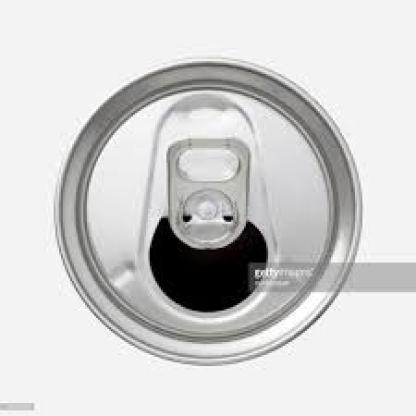trash: (56, 61, 361, 364)
